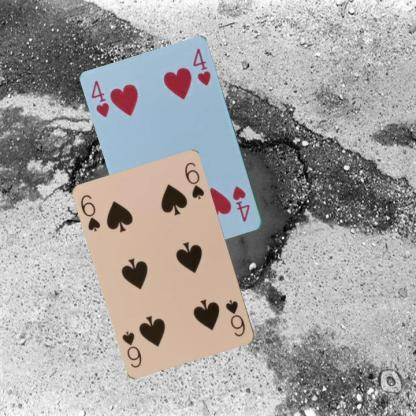4h: (230, 183, 252, 224), (89, 78, 111, 119)
6s: (223, 297, 247, 338), (78, 192, 102, 233)
